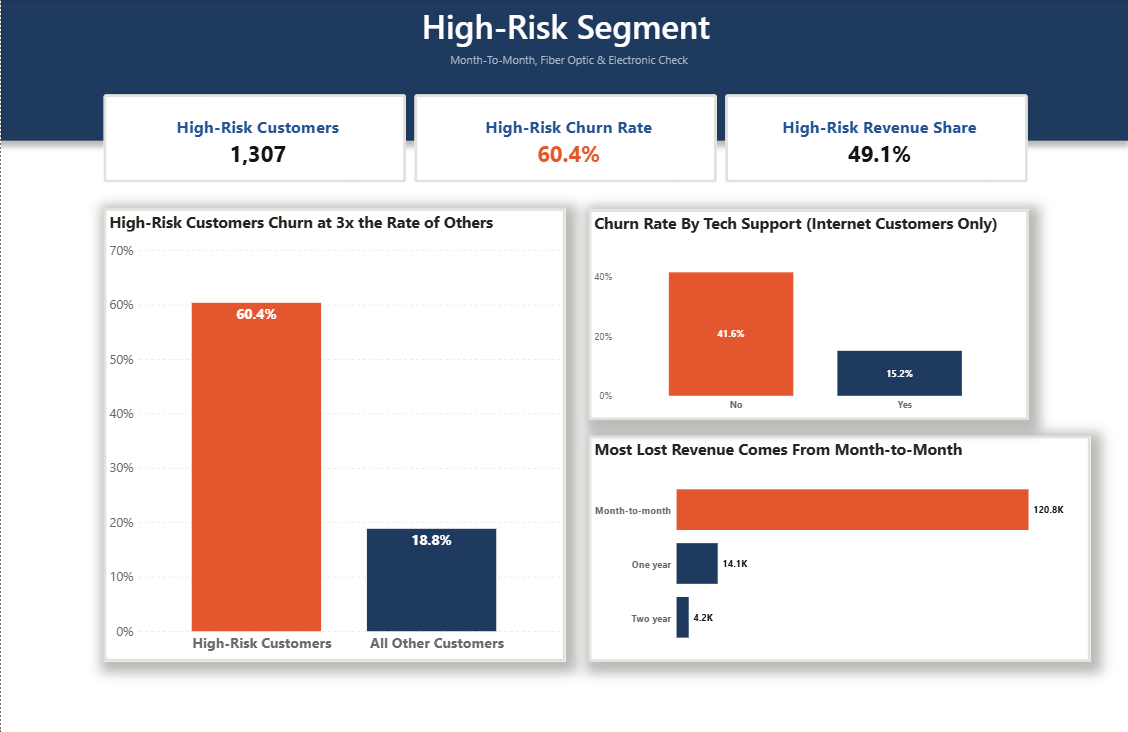

The page's visual inventory and layout, read from the dashboard file:
{"tool":"powerbi","page":{"name":"High-Risk Segment","canvas":[1920,1250],"ordinal":1},"visuals":[{"type":"shape","box":[0,0,1920,242],"z":0},{"type":"textbox","box":[497.5,5,925,125],"z":1000},{"type":"textbox","box":[758,88,857.5,242.5],"z":2000},{"type":"cardVisual","fields":{"Data":["Telco_Churn_Dashboard.High-Risk Customers","Telco_Churn_Dashboard.High-Risk Churn Rate","Telco_Churn_Dashboard.High-Risk Revenue Share"]},"box":[158,146,1604,184],"z":3000},{"type":"columnChart","title":"High-Risk Customers Churn at 3x the Rate of Others","fields":{"Category":["Telco_Churn_Dashboard.Segment"],"Y":["Telco_Churn_Dashboard.Churn Rate"]},"box":[175,357.5,785,770],"z":4000},{"type":"columnChart","title":"Churn Rate By Tech Support (Internet Customers Only)","fields":{"Category":["Telco_Churn_Dashboard.TechSupport"],"Y":["Telco_Churn_Dashboard.Churn Rate"]},"box":[998,358,748,358],"z":5000},{"type":"clusteredBarChart","title":"Most Lost Revenue Comes From Month-to-Month","fields":{"Category":["Telco_Churn_Dashboard.Contract"],"Y":["Telco_Churn_Dashboard.Monthly Revenue Lost"]},"box":[997.5,742.5,852.5,385],"z":6000}]}

Visuals, with their boxes in screenshot pixels (x1, y1, x2, y2), scaled from the page's 1920x1250 canvas onto the 1128x732 screenshot:
shape: left=0, top=0, right=1127, bottom=142
textbox: left=292, top=3, right=836, bottom=76
textbox: left=445, top=52, right=949, bottom=194
cardVisual - Telco_Churn_Dashboard.High-Risk Customers x Telco_Churn_Dashboard.High-Risk Churn Rate: left=93, top=85, right=1035, bottom=193
"High-Risk Customers Churn at 3x the Rate of Others" columnChart: left=103, top=209, right=564, bottom=660
"Churn Rate By Tech Support (Internet Customers Only)" columnChart: left=586, top=210, right=1026, bottom=419
"Most Lost Revenue Comes From Month-to-Month" clusteredBarChart: left=586, top=435, right=1087, bottom=660
